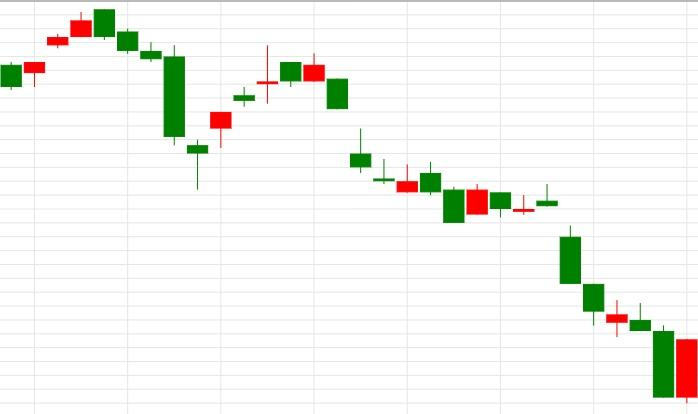bearish_engulfing_fall: (0, 9, 116, 91)
